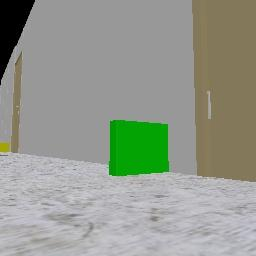verde: (110, 121, 168, 175)
